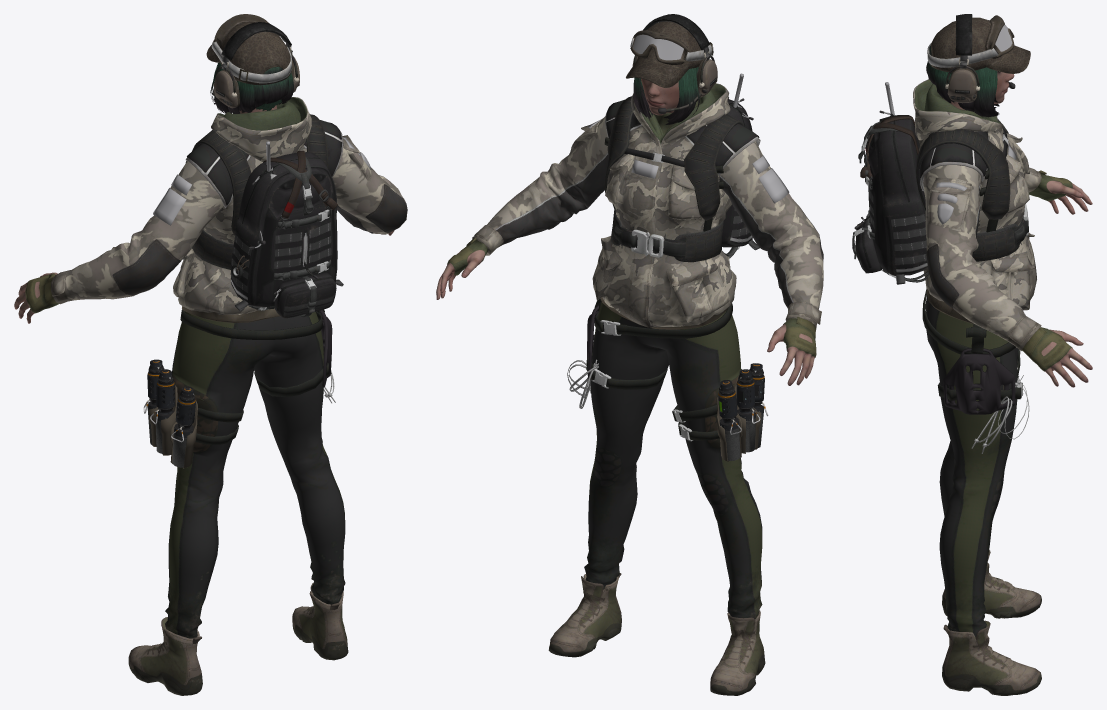
The picture shows the model from 3 angles, left to right: view 1: azimuth 30°, elevation 25°; view 2: azimuth 150°, elevation 25°; view 3: azimuth 270°, elevation 25°; orthographic projection. The views are drawn at different scales.
Visible parts, largest first — view 1: elar6.004, elar6.006, elar6.011, elar6.005, elar6.008, elar6, elar6.010, elar6.009, elar6.007, elar6.002; view 2: elar6.004, elar6.005, elar6.006, elar6.008, elar6, elar6.010, elar6.002, elar6.009, elar6.007, elar6.011, elar6.003; view 3: elar6.004, elar6.006, elar6.005, elar6.011, elar6.008, elar6, elar6.009, elar6.007, elar6.002, elar6.003.
Part boxes in pixels (x1,y1,x2,y2): elar6.004: (128, 311, 348, 695); elar6.006: (14, 135, 407, 323); elar6.011: (230, 152, 343, 318); elar6.005: (173, 97, 343, 323); elar6.008: (177, 114, 337, 444); elar6: (206, 14, 299, 108); elar6.010: (143, 359, 195, 467); elar6.009: (148, 310, 335, 468); elar6.007: (210, 62, 293, 113); elar6.002: (153, 22, 371, 225); elar6.004: (548, 302, 765, 695); elar6.005: (592, 83, 760, 329); elar6.006: (436, 116, 823, 385); elar6.008: (586, 96, 743, 441); elar6: (626, 14, 717, 113); elar6.010: (718, 363, 768, 460); elar6.002: (587, 34, 789, 203); elar6.009: (567, 305, 761, 461); elar6.007: (633, 67, 699, 124); elar6.011: (722, 98, 759, 250); elar6.003: (641, 78, 679, 115); elar6.004: (925, 295, 1041, 695); elar6.006: (923, 165, 1092, 387); elar6.005: (913, 79, 1036, 323); elar6.011: (854, 110, 928, 284); elar6.008: (852, 115, 1028, 400); elar6: (927, 14, 1030, 103); elar6.009: (943, 348, 1029, 453); elar6.007: (926, 46, 999, 117); elar6.002: (885, 24, 1016, 224); elar6.003: (944, 71, 1014, 109).
Bounding box in the file's own units: 42.58 × 70.88 × 24.4.
13 materials, 12 textured.
